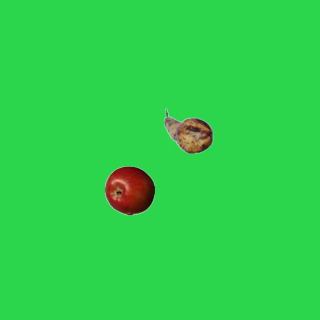Apple Braeburn: (104, 165, 154, 215)
Pear Abate: (163, 106, 213, 156)
